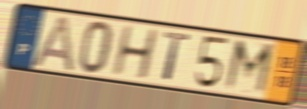0: (76, 19, 115, 76)
5: (194, 34, 232, 90)
A: (28, 13, 76, 74)
H: (109, 25, 160, 82)
M: (221, 37, 277, 99)
T: (161, 29, 193, 84)
